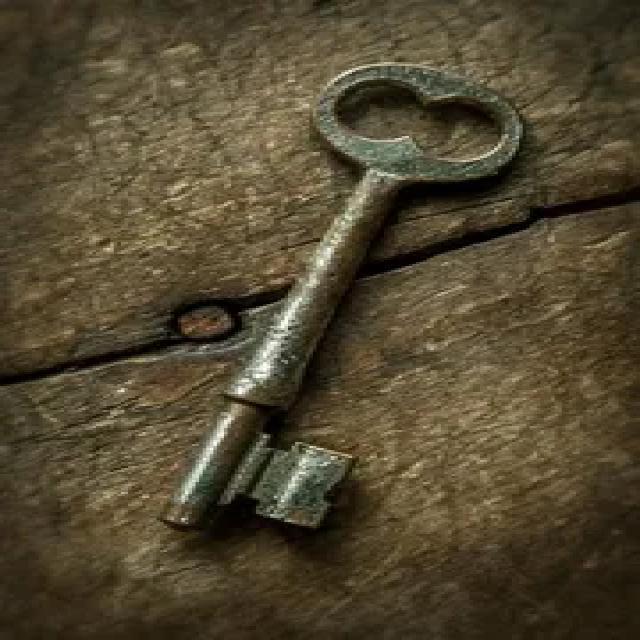key: (139, 42, 555, 574)
